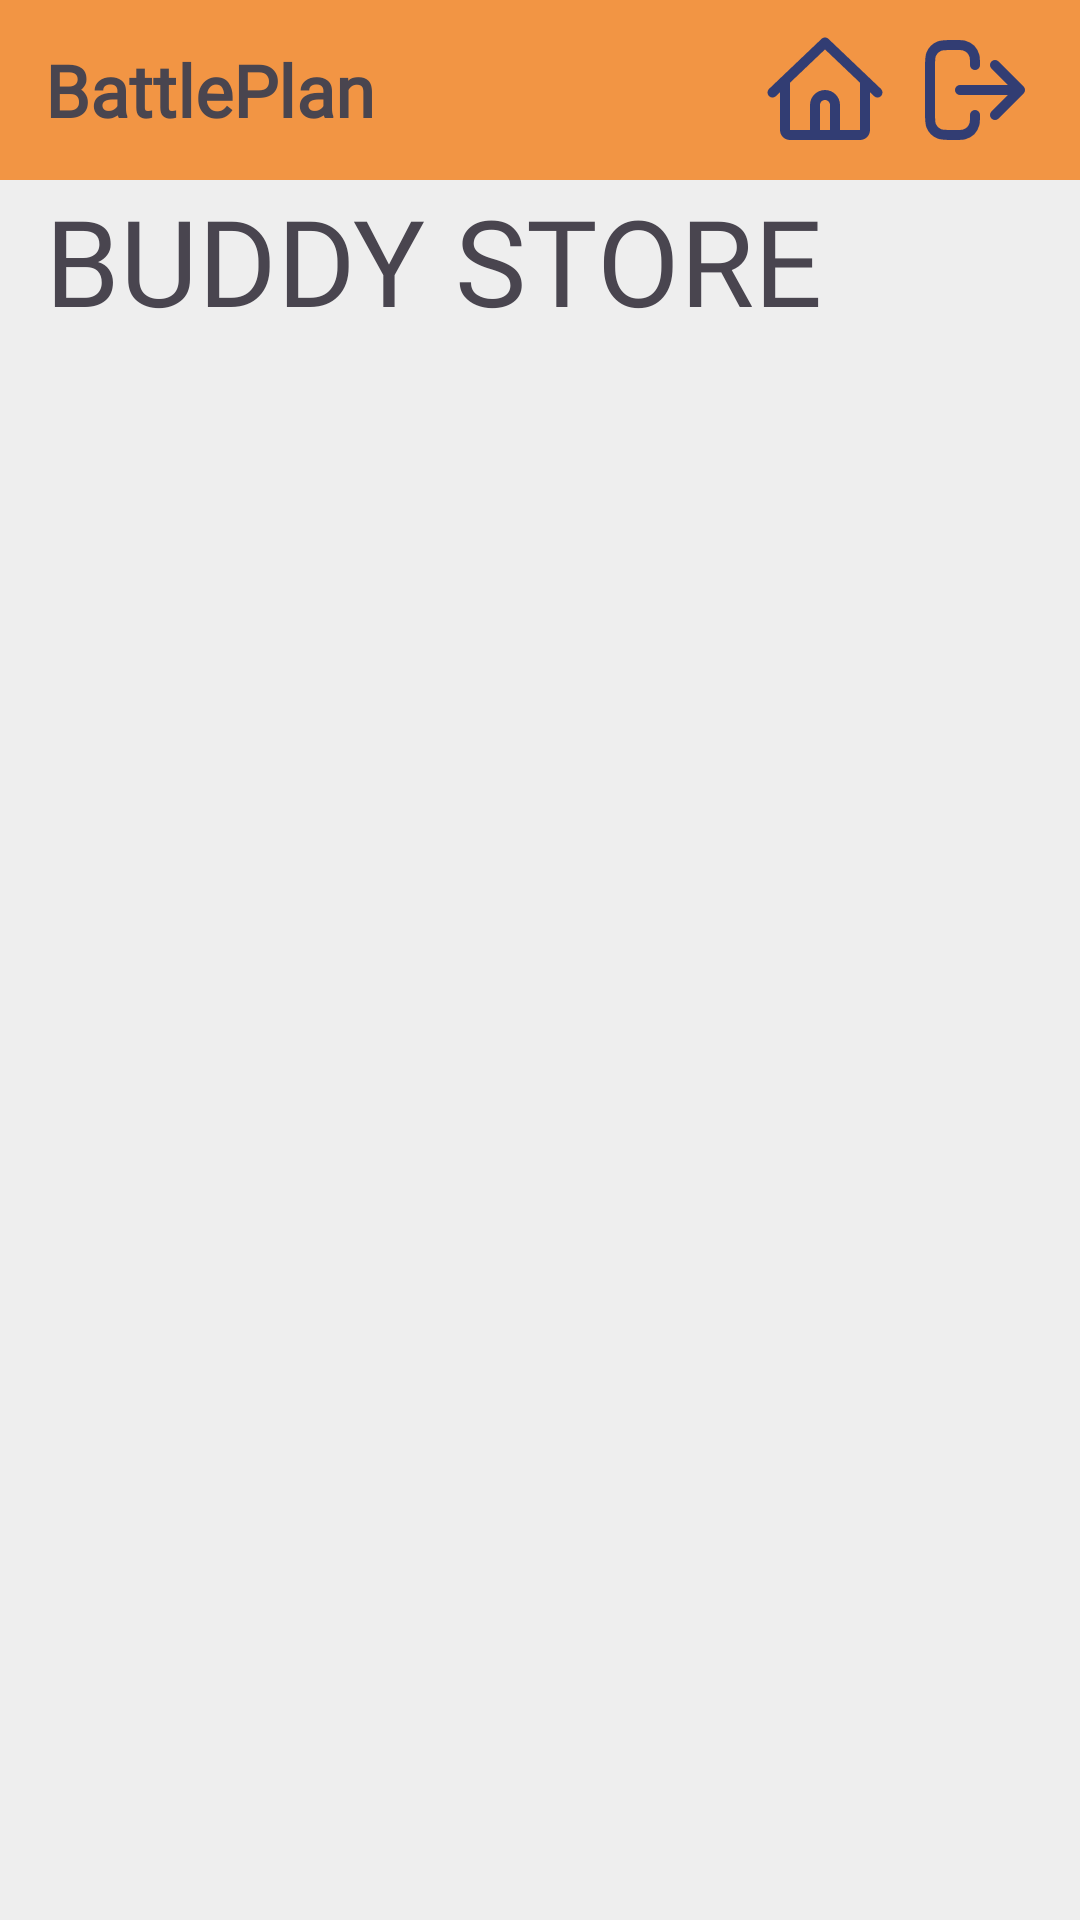

Icon bounding boxes for this 1080 x 1920 phone screenshot, format bbox(x1, y1, x2, y2):
home: bbox(767, 37, 883, 140)
log out: bbox(925, 40, 1025, 140)
